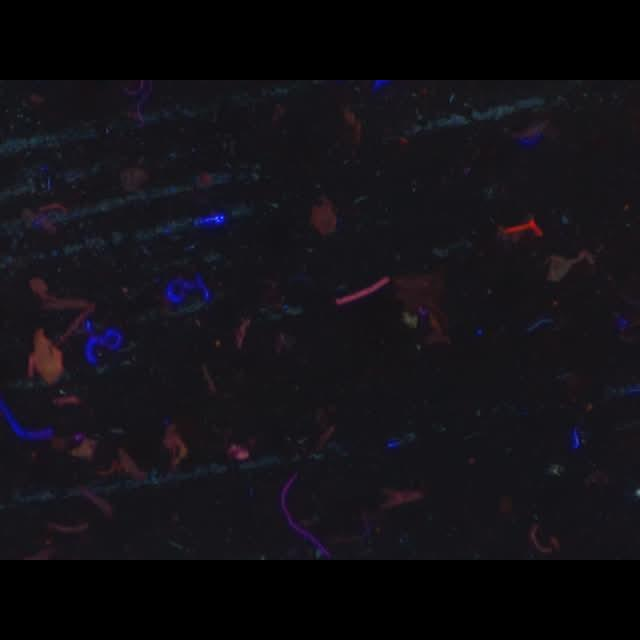Fragment: (227, 443, 249, 461)
